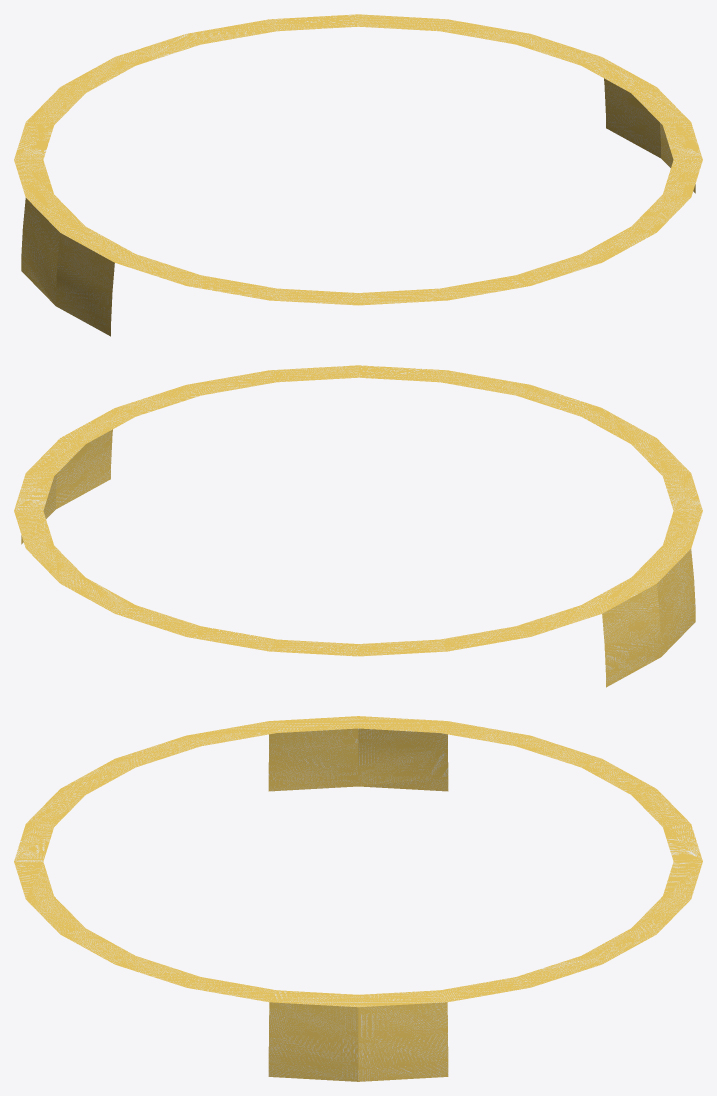
Rendered from original-3.obj.
The picture shows the model from 3 angles, top to bottom: view 1: azimuth 30°, elevation 25°; view 2: azimuth 150°, elevation 25°; view 3: azimuth 270°, elevation 25°; orthographic projection.
Visible parts, largest first — view 1: #ID20; view 2: #ID20; view 3: #ID20.
Boxes of the visible parts, x1=… form: #ID20: x1=14, y1=14, x2=702, y2=336; #ID20: x1=14, y1=365, x2=702, y2=687; #ID20: x1=14, y1=716, x2=702, y2=1081.
Size of the model in its own units: 1.61 by 0.1848 by 1.59.
